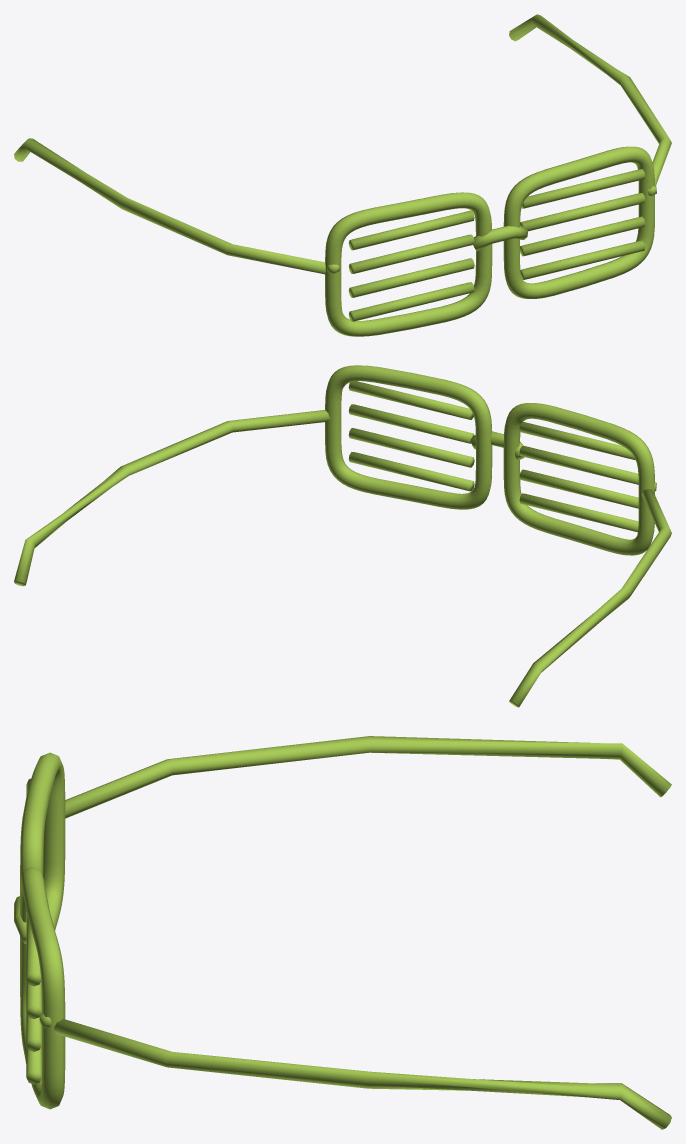
Rendered from 18-lime-shutters.glb.
The picture shows the model from 3 angles, top to bottom: view 1: azimuth 30°, elevation 25°; view 2: azimuth 150°, elevation 25°; view 3: azimuth 270°, elevation 25°; orthographic projection. The views are drawn at different scales.
Visible parts, largest first — view 1: Glasses18_Rim-11, Glasses18_Rim12, Glasses18_Temple-14, Glasses18_Temple16, Glasses18_Shutter11, Glasses18_Shutter13, Glasses18_Shutter8, Glasses18_Shutter9, Glasses18_Shutter10, Glasses18_Shutter12, Glasses18_Shutter15, Glasses18_Shutter14 (+1 smaller); view 2: Glasses18_Rim12, Glasses18_Rim-11, Glasses18_Temple16, Glasses18_Temple-14, Glasses18_Shutter13, Glasses18_Shutter12, Glasses18_Shutter14, Glasses18_Shutter15, Glasses18_Shutter9, Glasses18_Shutter10, Glasses18_Shutter8, Glasses18_Shutter11; view 3: Glasses18_Temple-14, Glasses18_Temple16, Glasses18_Rim12, Glasses18_Rim-11, Glasses18_Shutter15.
Boxes of the visible parts, x1=… form: Glasses18_Rim-11: x1=325, y1=192, x2=492, y2=336; Glasses18_Rim12: x1=503, y1=146, x2=654, y2=298; Glasses18_Temple-14: x1=14, y1=138, x2=325, y2=274; Glasses18_Temple16: x1=509, y1=14, x2=671, y2=185; Glasses18_Shutter11: x1=348, y1=210, x2=474, y2=250; Glasses18_Shutter13: x1=520, y1=216, x2=645, y2=256; Glasses18_Shutter8: x1=348, y1=282, x2=474, y2=321; Glasses18_Shutter9: x1=348, y1=258, x2=474, y2=297; Glasses18_Shutter10: x1=349, y1=234, x2=474, y2=273; Glasses18_Shutter12: x1=520, y1=240, x2=645, y2=279; Glasses18_Shutter15: x1=521, y1=169, x2=645, y2=208; Glasses18_Shutter14: x1=520, y1=193, x2=645, y2=231; Glasses18_Rim12: x1=325, y1=365, x2=492, y2=509; Glasses18_Rim-11: x1=503, y1=403, x2=654, y2=555; Glasses18_Temple16: x1=14, y1=410, x2=330, y2=586; Glasses18_Temple-14: x1=509, y1=489, x2=671, y2=707; Glasses18_Shutter13: x1=348, y1=428, x2=474, y2=467; Glasses18_Shutter12: x1=349, y1=452, x2=474, y2=491; Glasses18_Shutter14: x1=348, y1=404, x2=474, y2=443; Glasses18_Shutter15: x1=348, y1=381, x2=473, y2=419; Glasses18_Shutter9: x1=519, y1=469, x2=638, y2=508; Glasses18_Shutter10: x1=519, y1=446, x2=638, y2=484; Glasses18_Shutter8: x1=519, y1=493, x2=638, y2=532; Glasses18_Shutter11: x1=519, y1=422, x2=635, y2=460; Glasses18_Temple-14: x1=64, y1=736, x2=671, y2=818; Glasses18_Temple16: x1=54, y1=1019, x2=671, y2=1129; Glasses18_Rim12: x1=20, y1=867, x2=65, y2=1109; Glasses18_Rim-11: x1=20, y1=752, x2=65, y2=930; Glasses18_Shutter15: x1=26, y1=912, x2=41, y2=986.
Size of the model in its own units: 0.6374 by 0.15 by 0.5101.
